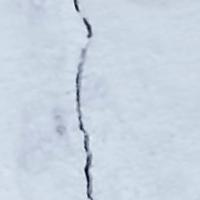crack: (55, 0, 123, 199)
